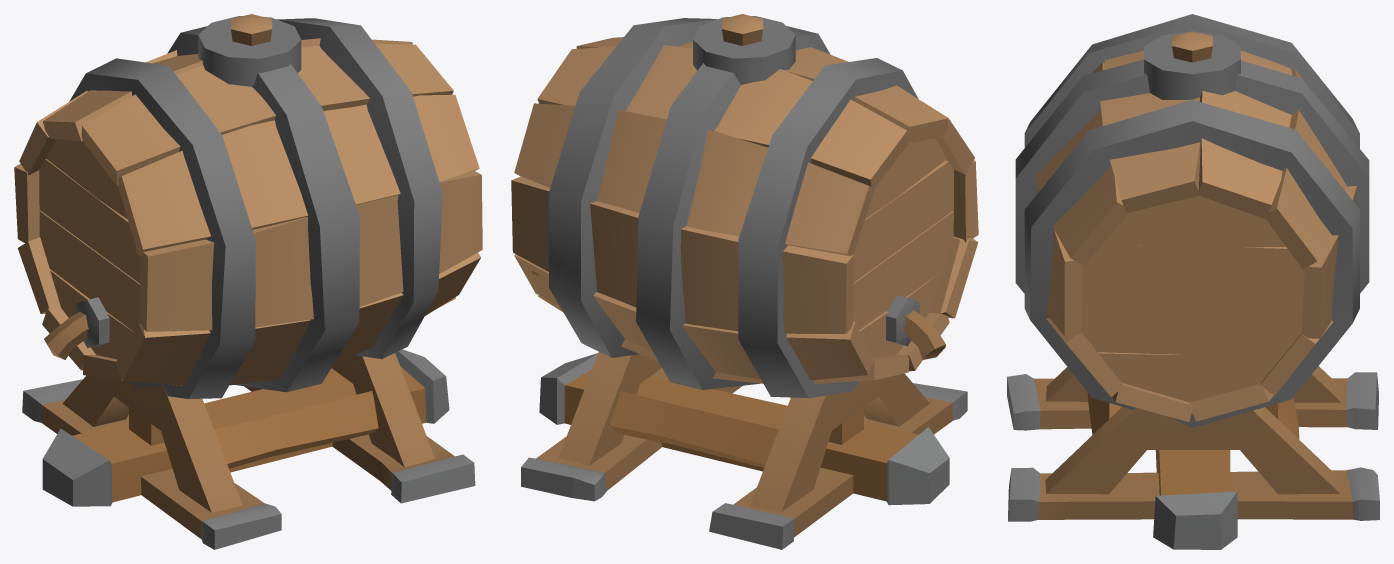
File: Barrel_J.fbx
The picture shows the model from 3 angles, left to right: view 1: azimuth 30°, elevation 25°; view 2: azimuth 150°, elevation 25°; view 3: azimuth 270°, elevation 25°; orthographic projection.
Visible parts, largest first — view 1: Barrel_J; view 2: Barrel_J; view 3: Barrel_J.
Part boxes in pixels (left/top/right/bottom): Barrel_J: left=14, top=14, right=482, bottom=549; Barrel_J: left=511, top=14, right=978, bottom=549; Barrel_J: left=1007, top=14, right=1379, bottom=549.
Bounding box in the file's own units: 99.66 × 105 × 83.17.
